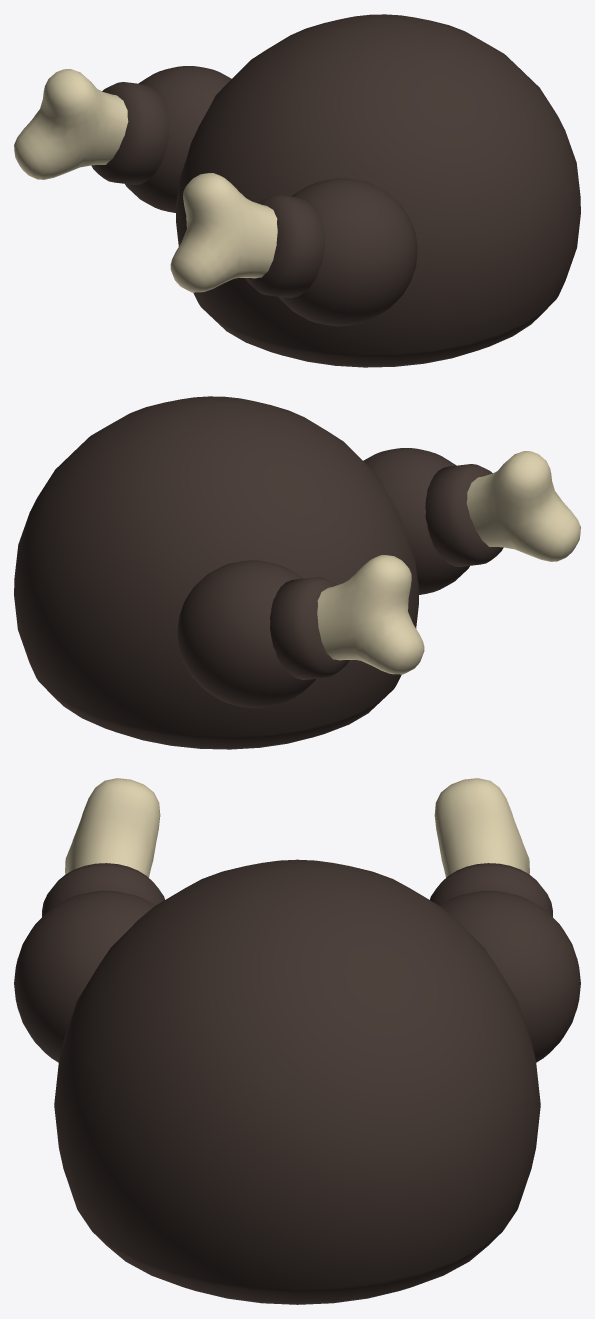
Rendered from Ente.fbx.
3 views of the same model, one above another, from view 1: azimuth 30°, elevation 25°; view 2: azimuth 150°, elevation 25°; view 3: azimuth 270°, elevation 25° (orthographic). The views are drawn at different scales.
Visible parts, largest first — view 1: Ente; view 2: Ente; view 3: Ente.
Boxes of the visible parts, <box> form: Ente: <box>14,14,580,367</box>; Ente: <box>14,396,580,749</box>; Ente: <box>14,778,580,1304</box>.
Size of the model in its own units: 272 by 156 by 233.
